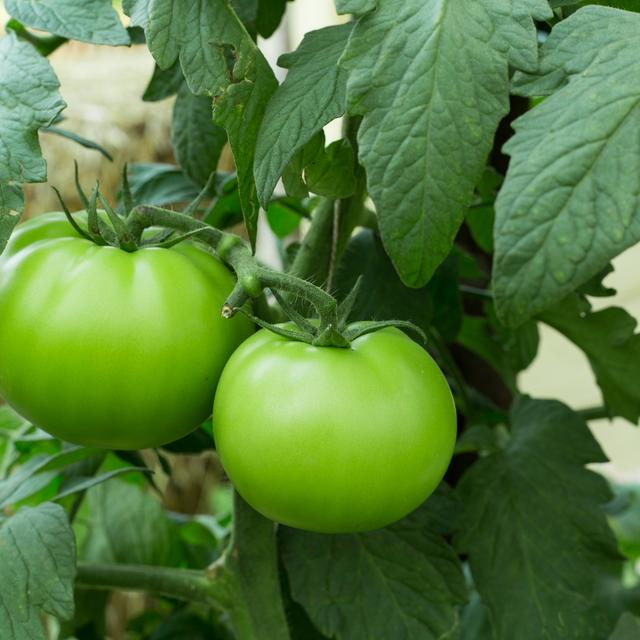tomato: (0, 170, 466, 548)
